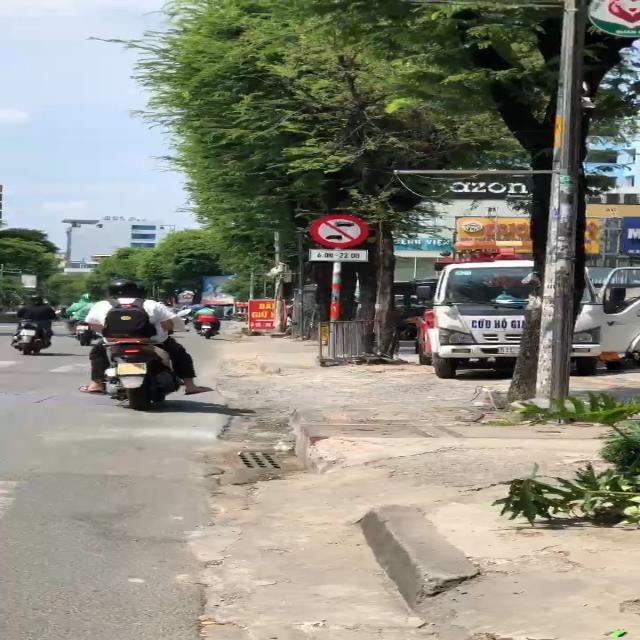Bien bao cam xe oto khach va xe oto tai: (308, 212, 370, 249)
